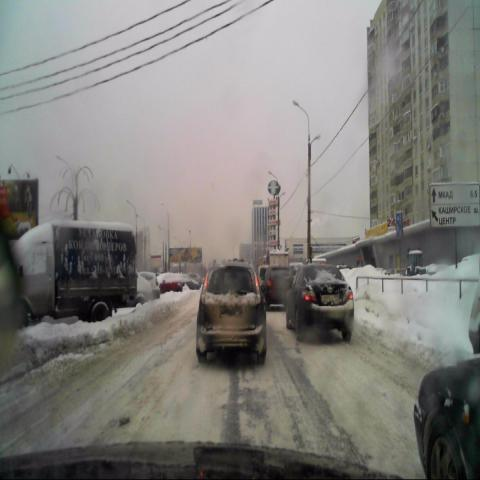5_21: (395, 209, 403, 238)
